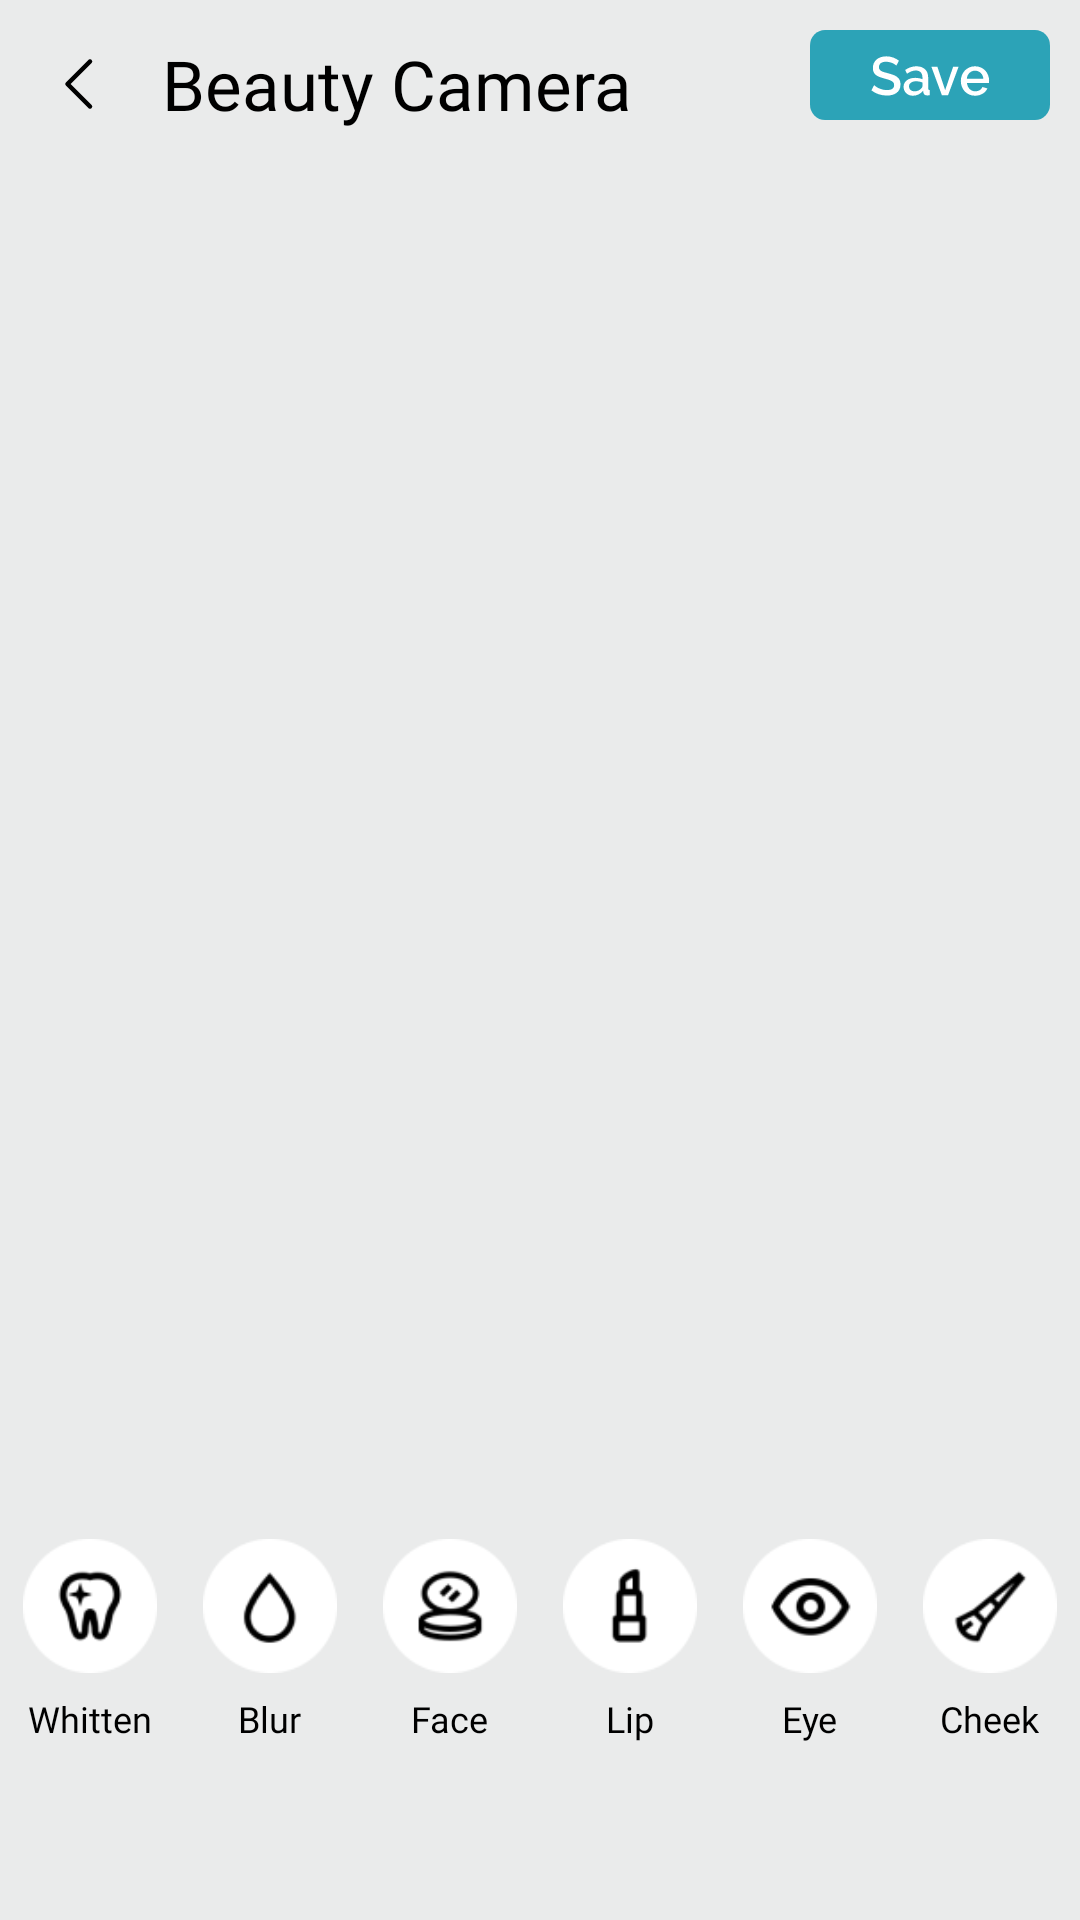

Screen size 1080*1920. Icon name, then its box in pixels as rect(x1, y1, x2, y2):
back: rect(65, 59, 93, 109)
